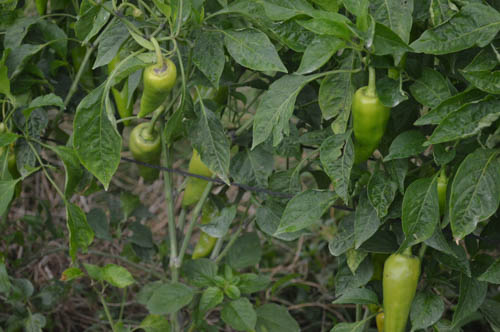ChiliPepper: (370, 249, 430, 332), (344, 85, 395, 172), (122, 122, 170, 189), (135, 54, 179, 124), (177, 144, 221, 212), (103, 52, 138, 131), (184, 212, 226, 268), (426, 172, 456, 222)
